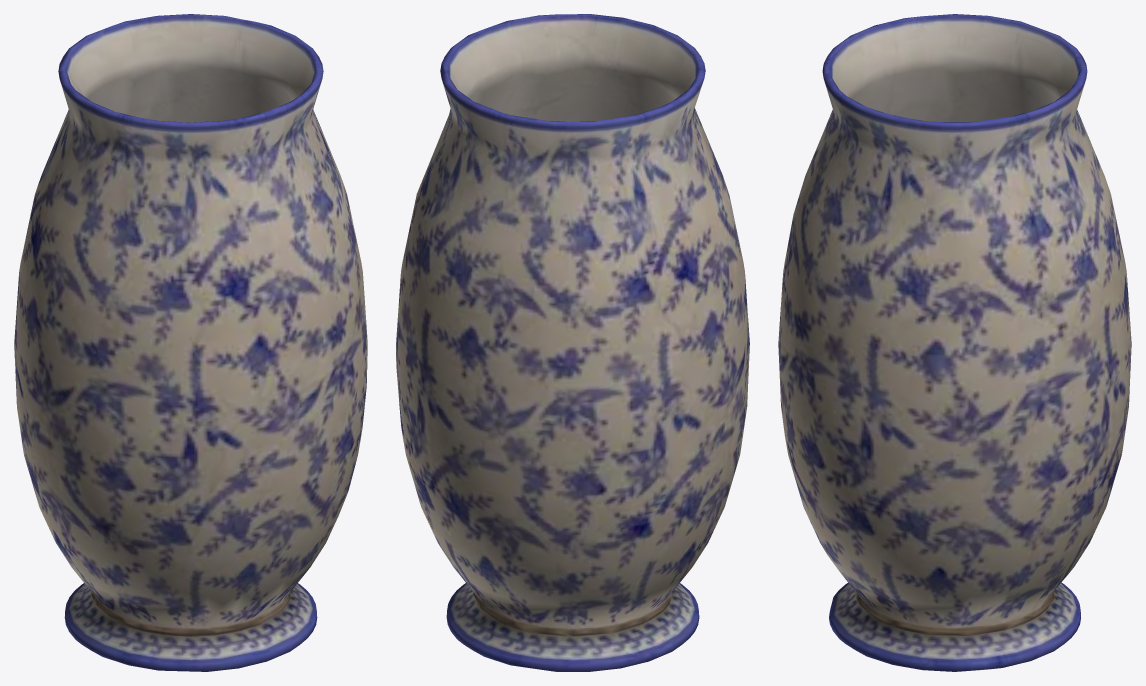
The model's file is aca-jar.glb.
The picture shows the model from 3 angles, left to right: view 1: azimuth 30°, elevation 25°; view 2: azimuth 150°, elevation 25°; view 3: azimuth 270°, elevation 25°; orthographic projection.
Visible parts, largest first — view 1: antique_ceramic_vase_01; view 2: antique_ceramic_vase_01; view 3: antique_ceramic_vase_01.
Part boxes in pixels (bbox=[...]): antique_ceramic_vase_01: bbox=[14, 14, 367, 671]; antique_ceramic_vase_01: bbox=[396, 14, 749, 671]; antique_ceramic_vase_01: bbox=[778, 14, 1131, 671].
Size of the model in its own units: 0.255 by 0.4396 by 0.255.
Materials: 1 (1 with a texture image).
